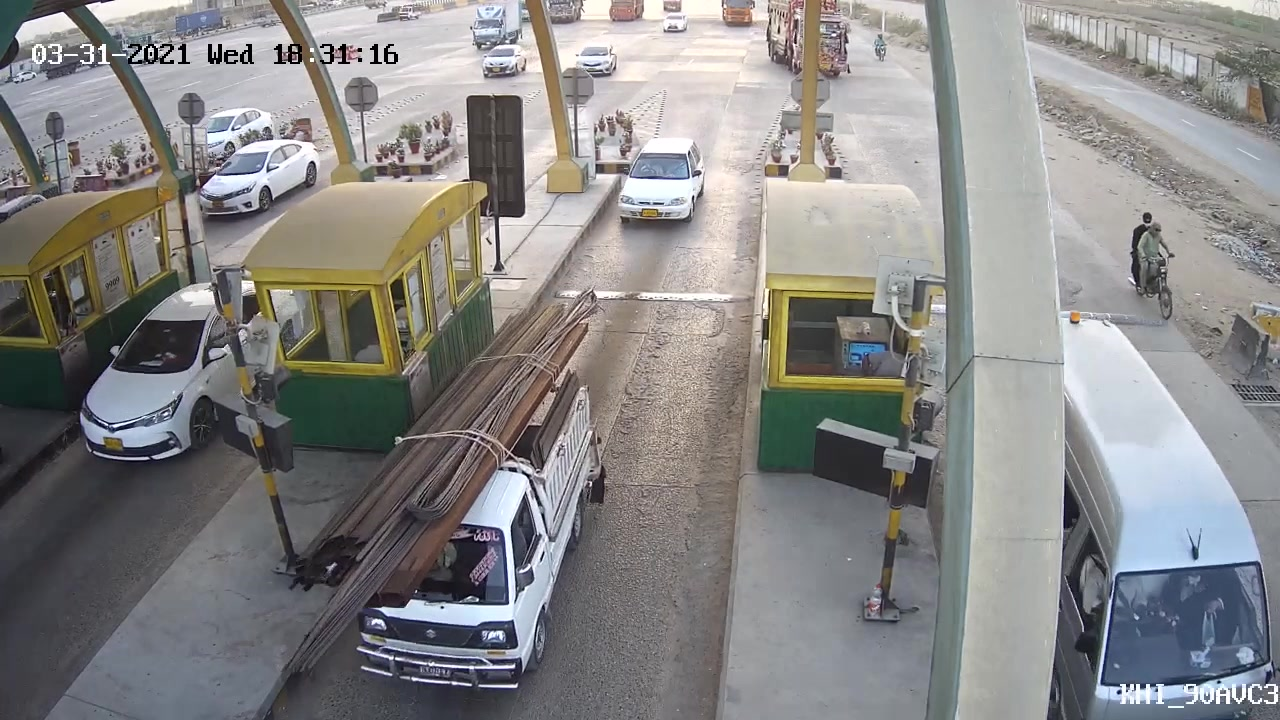F1: (349, 351, 609, 698), (613, 133, 714, 226)
